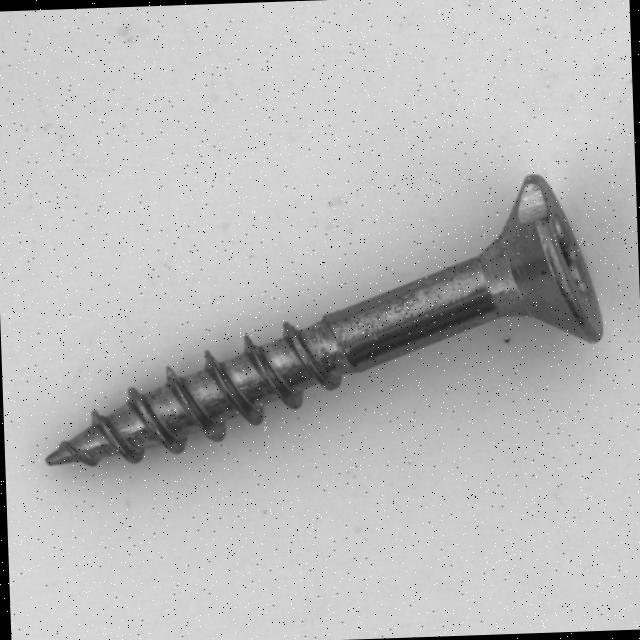scratch_head: (514, 178, 552, 230)
